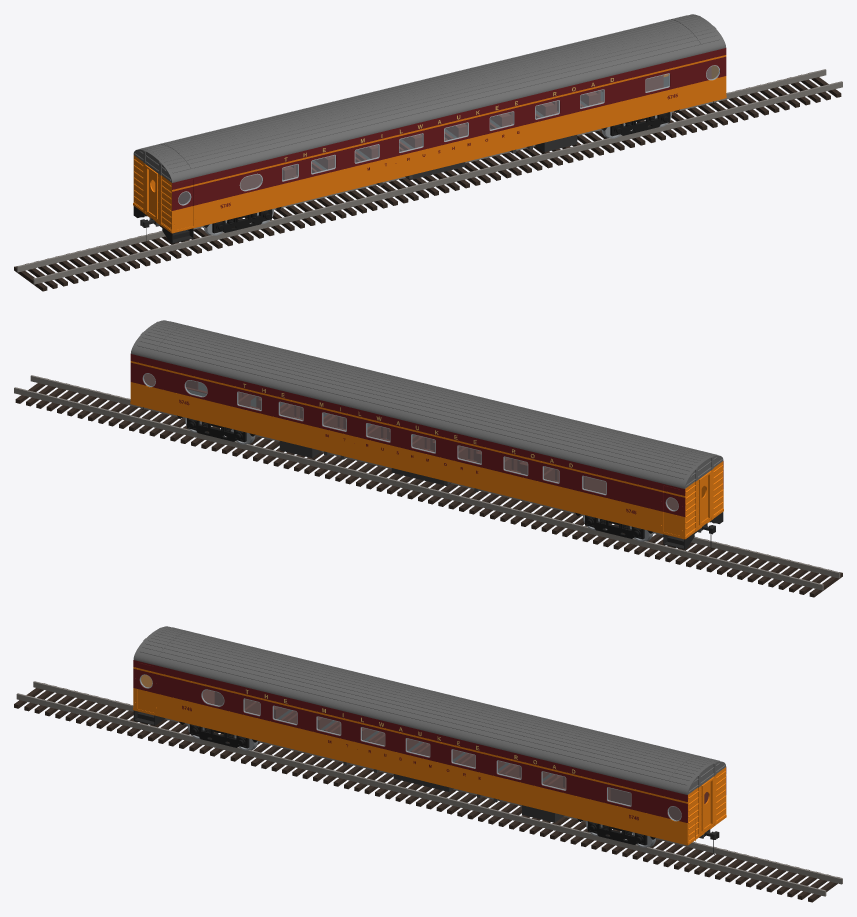
The model's file is MR1947_Touralux_G.glb.
3 renders of one model, top to bottom at view 1: azimuth 30°, elevation 25°; view 2: azimuth 150°, elevation 25°; view 3: azimuth 330°, elevation 25°, orthographic.
Visible parts, largest first — view 1: roof, orange, maroon, ties, rails, glass, interior, trucks, rims, equipment; view 2: roof, orange, maroon, ties, rails, glass, interior, trucks, rims, equipment; view 3: roof, orange, maroon, ties, rails, glass, interior, trucks, rims, equipment.
Boxes of the visible parts, x1=… form: roof: x1=133, y1=14, x2=726, y2=182; orange: x1=133, y1=55, x2=726, y2=233; maroon: x1=172, y1=48, x2=726, y2=210; ties: x1=14, y1=72, x2=841, y2=291; rails: x1=16, y1=69, x2=842, y2=284; glass: x1=178, y1=65, x2=719, y2=204; interior: x1=178, y1=66, x2=711, y2=204; trucks: x1=204, y1=109, x2=679, y2=233; rims: x1=178, y1=65, x2=719, y2=205; equipment: x1=405, y1=135, x2=577, y2=179; roof: x1=130, y1=320, x2=723, y2=488; orange: x1=130, y1=361, x2=723, y2=539; maroon: x1=130, y1=354, x2=723, y2=516; ties: x1=15, y1=378, x2=842, y2=597; rails: x1=14, y1=375, x2=840, y2=590; glass: x1=143, y1=373, x2=678, y2=510; interior: x1=144, y1=373, x2=678, y2=510; trucks: x1=177, y1=415, x2=652, y2=539; rims: x1=142, y1=373, x2=678, y2=511; equipment: x1=279, y1=441, x2=451, y2=485; roof: x1=133, y1=626, x2=726, y2=794; orange: x1=133, y1=667, x2=726, y2=845; maroon: x1=133, y1=660, x2=726, y2=822; ties: x1=14, y1=683, x2=839, y2=902; rails: x1=16, y1=681, x2=842, y2=896; glass: x1=140, y1=675, x2=681, y2=820; interior: x1=202, y1=690, x2=708, y2=820; trucks: x1=179, y1=721, x2=655, y2=845; rims: x1=139, y1=674, x2=681, y2=821; equipment: x1=393, y1=774, x2=564, y2=822.
Bounding box in the file's own units: 1.27 × 0.1432 × 0.1056.
